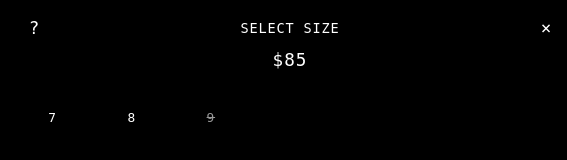
Test: SizePanel — Unit / Component › al tocar ? alterna al sistema secondary (size_eu)
The image size is (567, 160).
Click the button with test id "toggle-system" at (34, 28), box [18,18,50,38]
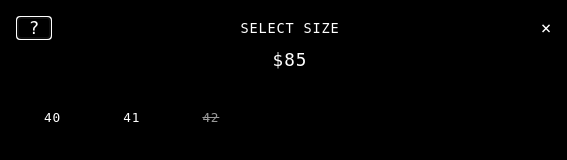
Expected: the button with test id "size-40" is shown, [18,98,87,137]
Expected: the button with test id "size-41" is shown, [97,98,166,137]
